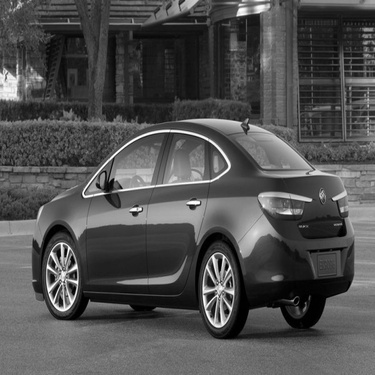car: (22, 113, 359, 342)
